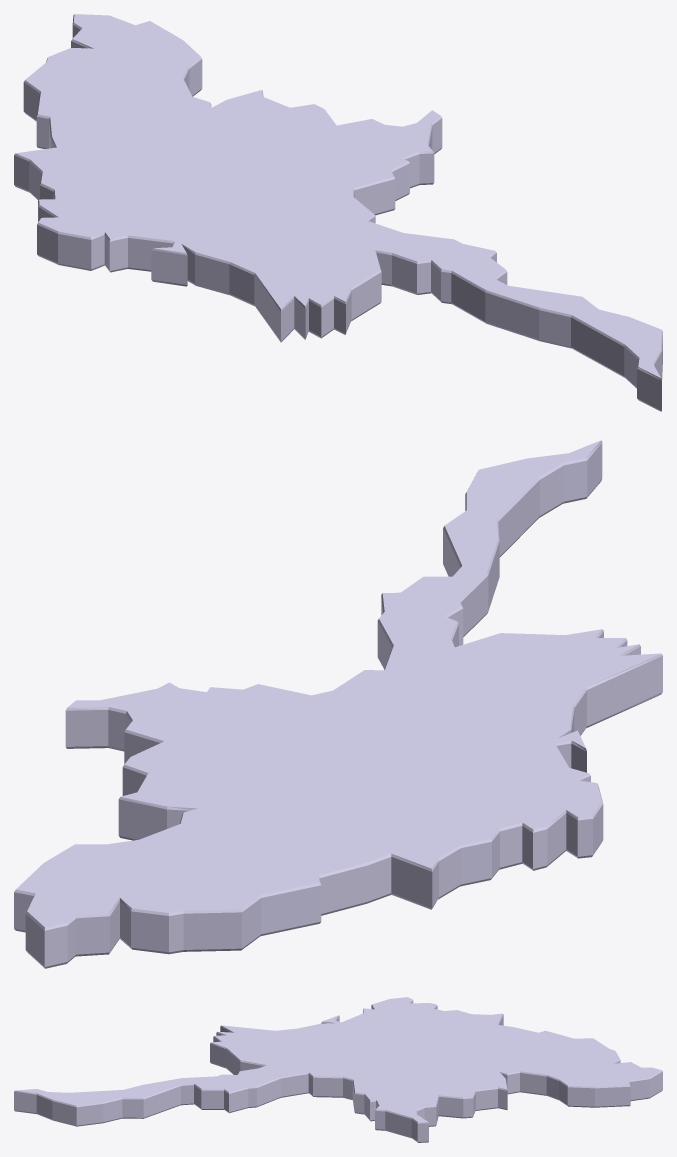
Rendered from MMR.glb.
The picture shows the model from 3 angles, top to bottom: view 1: azimuth 30°, elevation 25°; view 2: azimuth 150°, elevation 25°; view 3: azimuth 270°, elevation 25°; orthographic projection. The views are drawn at different scales.
Size of the model in its own units: 0.8776 by 0.068 by 1.92.
